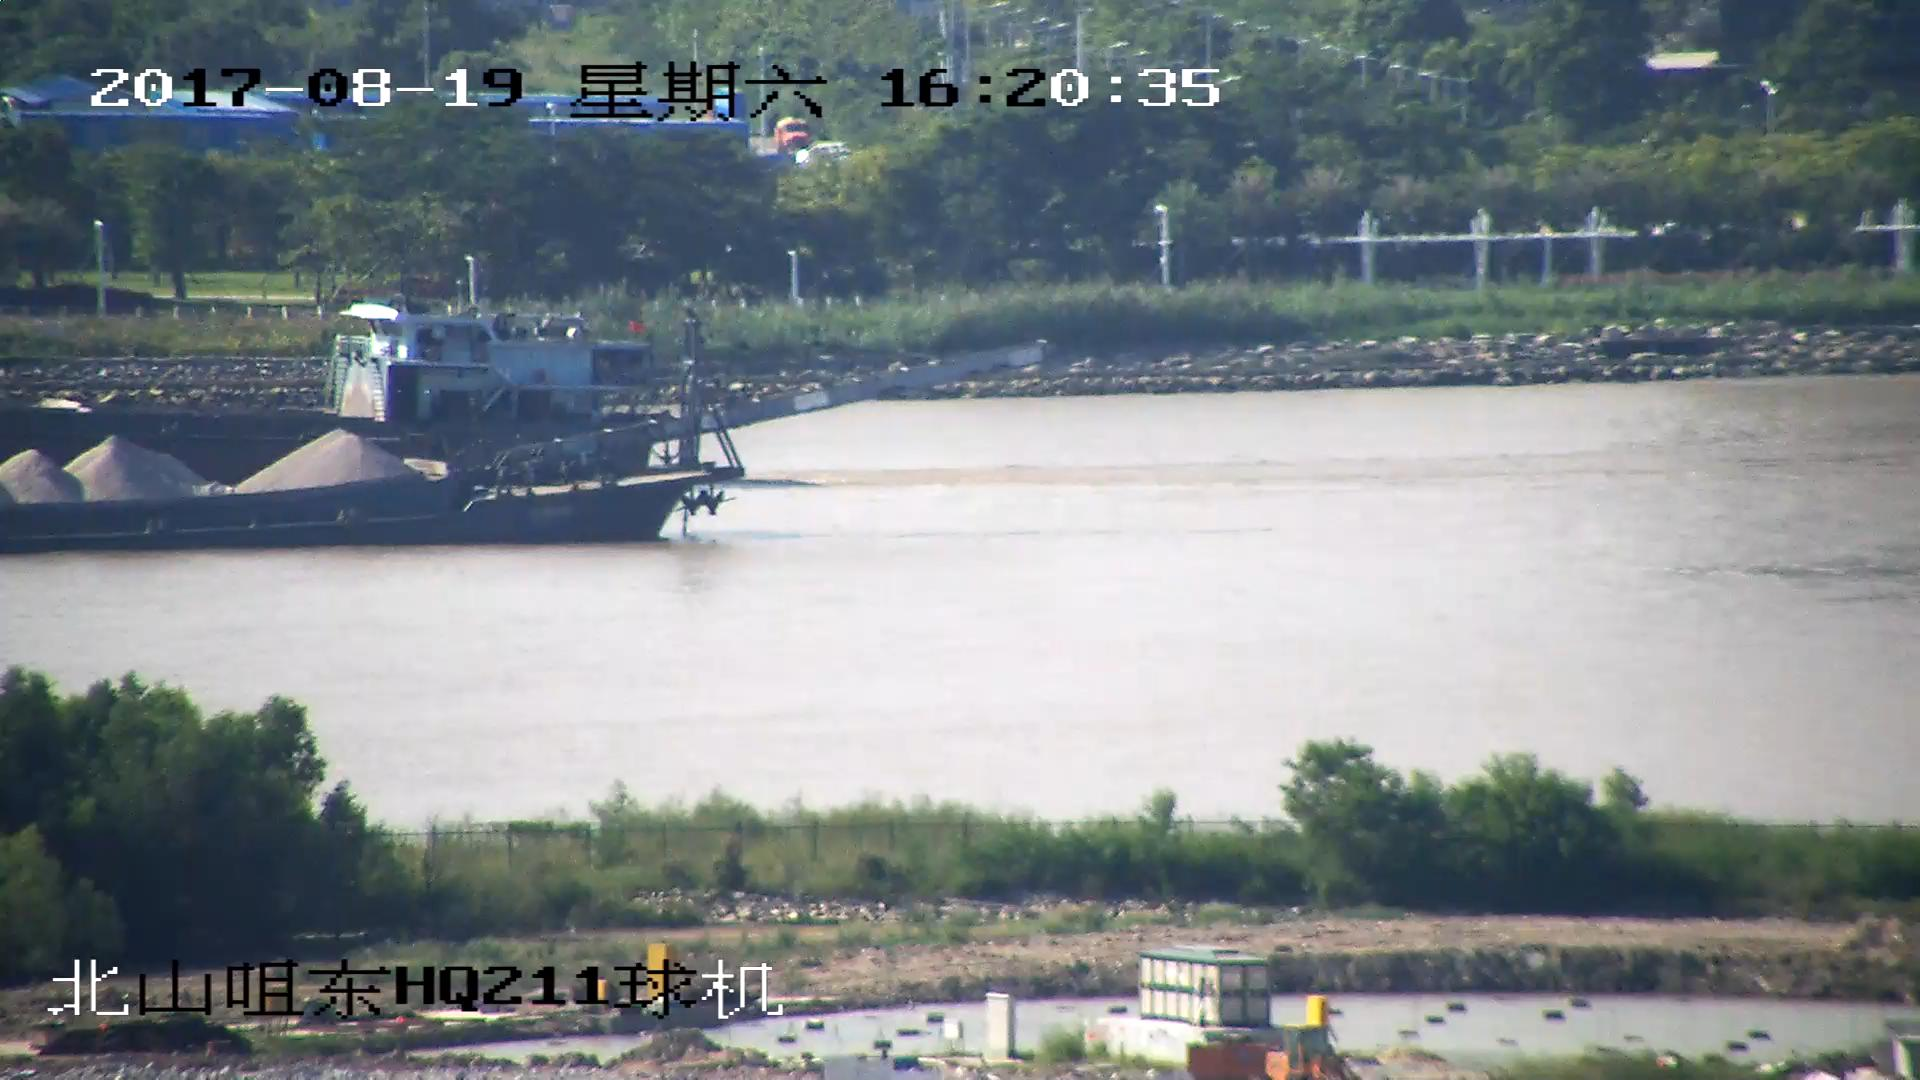bulk cargo carrier: (1, 298, 666, 467)
ore carrier: (1, 347, 1042, 556)
